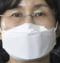with_mask: (1, 1, 60, 63)
